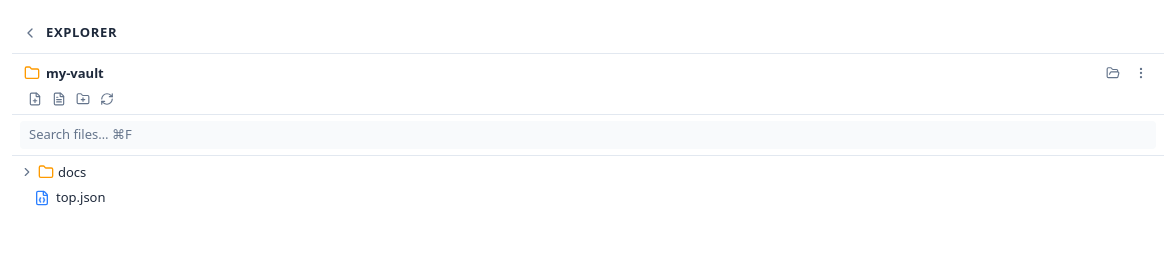
ExplorerPanel — ARIA tree semantics & keyboard nav (KB-033) › FS-2.3-58: folder rows expose aria-expanded; file rows do not
Click the text "docs". click: click(72, 172)
box: x1=58 y1=163 x2=86 y2=181
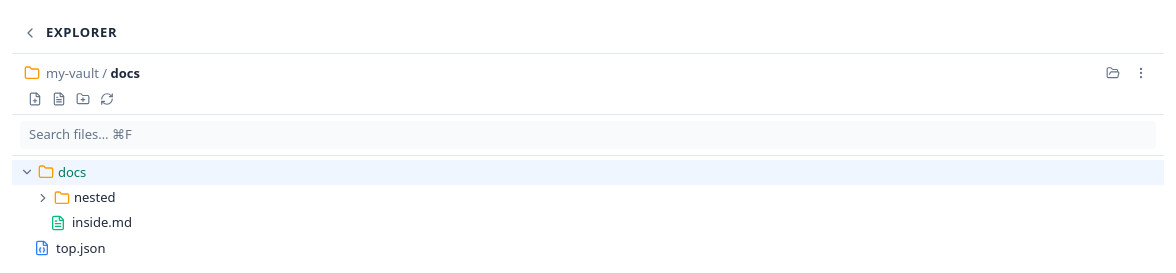
Check: the list item "docs" is expanded, box x1=12 y1=160 x2=1164 y2=185
